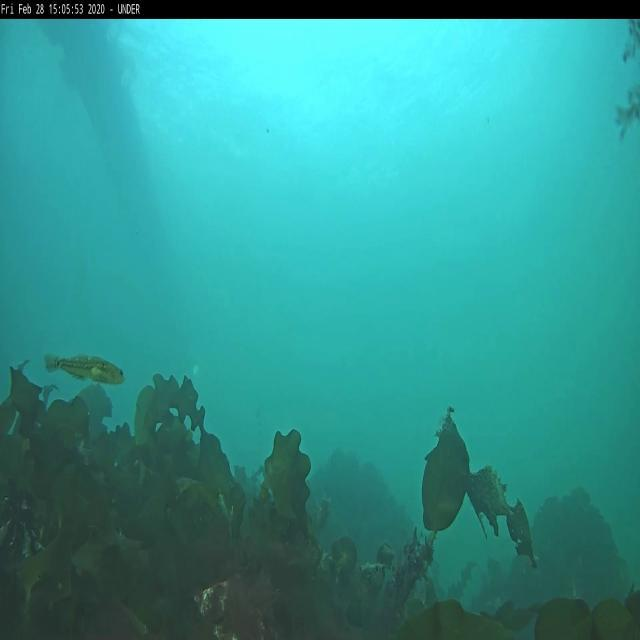fish: (45, 354, 124, 384)
